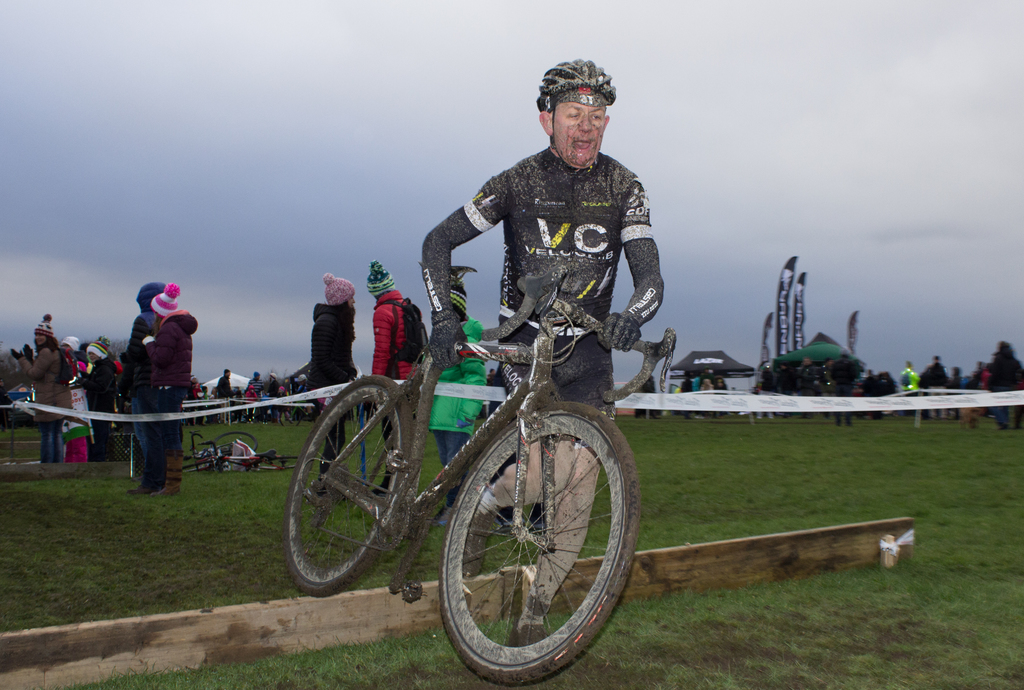Bike_toward: (293, 260, 652, 675)
